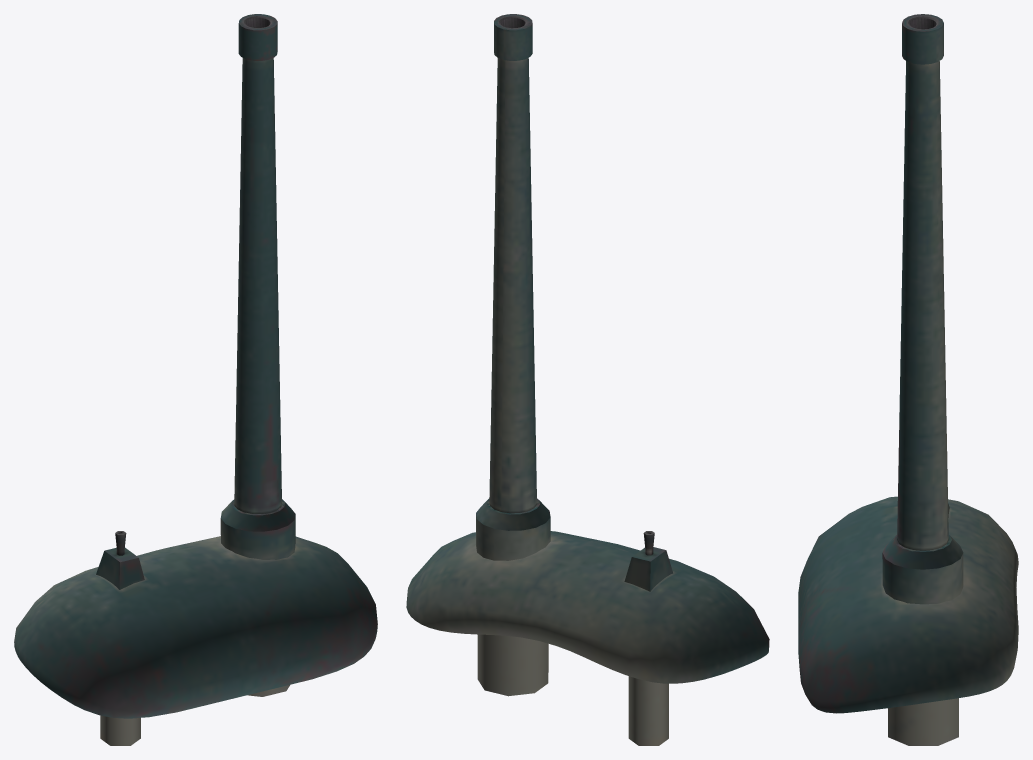
File: Gun_05.glb
3 renders of one model, left to right at view 1: azimuth 30°, elevation 25°; view 2: azimuth 150°, elevation 25°; view 3: azimuth 270°, elevation 25°, orthographic. The views are drawn at different scales.
Parts seen in each view (by area): view 1: set_0_group_0; view 2: set_0_group_0; view 3: set_0_group_0.
Boxes of the visible parts, x1,y1,x2,y2 form: set_0_group_0: (14,14,377,745); set_0_group_0: (406,14,769,745); set_0_group_0: (798,14,1018,745).
Size of the model in its own units: 0.7181 by 1.42 by 0.3868.
1 material, 1 textured.
